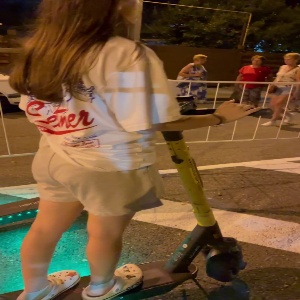human on a scooter: (1, 1, 275, 300)
